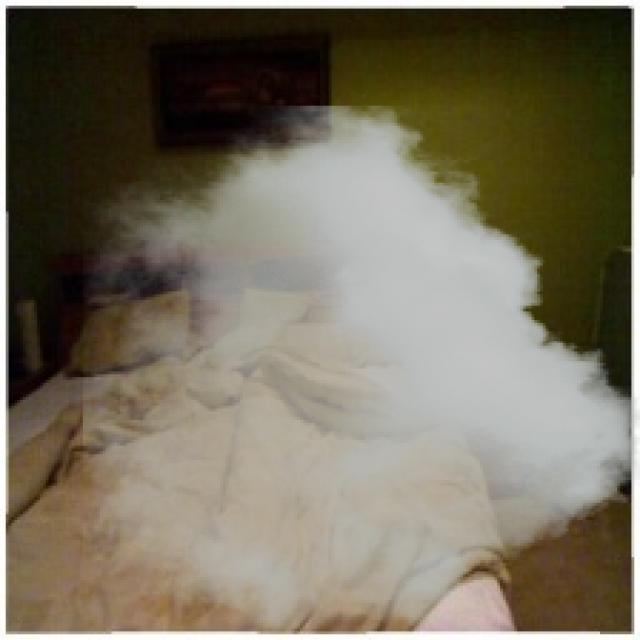smoke: (83, 106, 637, 637)
